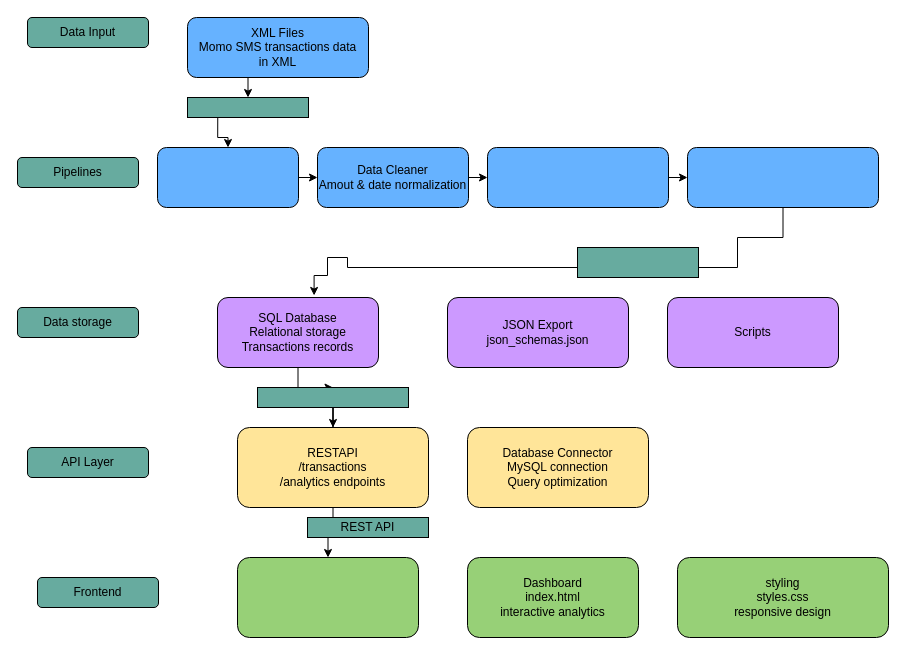
Some shapes in this 906 by 655 pixel diagram are drawn without their labels. The box of each missing label's shape, as (x1, y1, x2, y2) in pixels:
Category category.py Transaction classification: (486, 146, 668, 208)
data chart_handlers.js Data visualization: (236, 556, 418, 638)
Data Loader load_db.py dsa_search.py: (686, 146, 878, 208)
processed data: (576, 246, 698, 278)
Raw XML data: (186, 96, 308, 118)
Structure Data: (256, 386, 408, 408)
XML Parser parse_xml.py ElementTree/xml: (156, 146, 298, 208)
